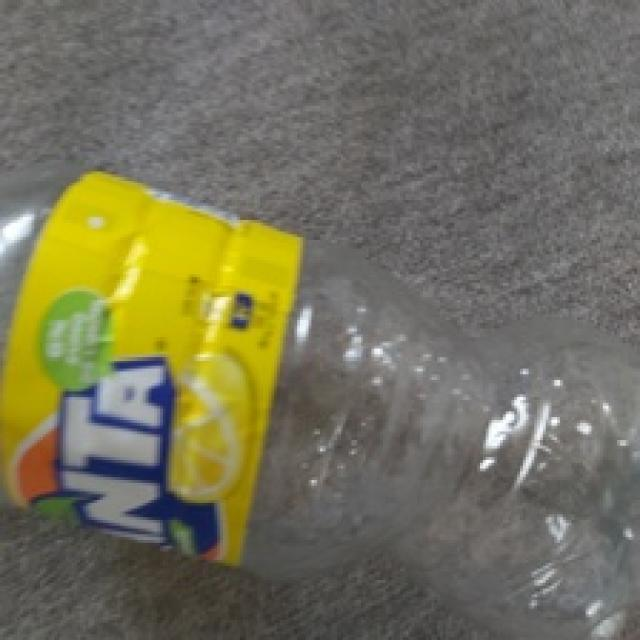Plastic: (0, 158, 640, 640)
